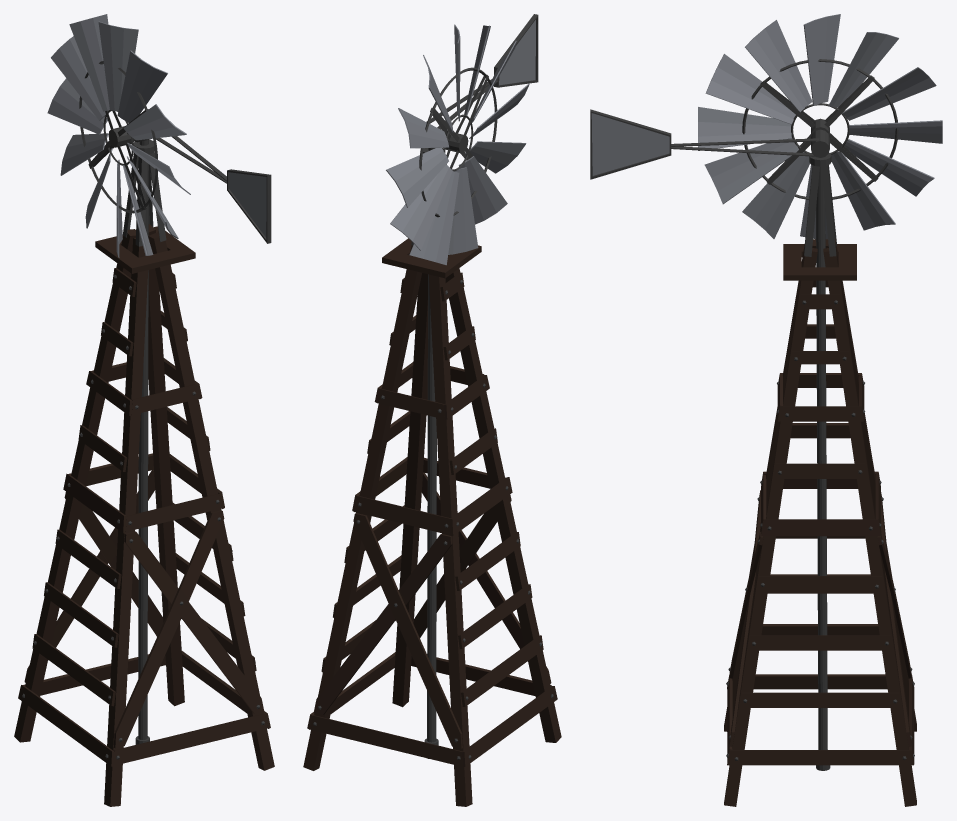
The model's file is lowpoly_windmill.glb.
3 views of the same model, side by side, from view 1: azimuth 30°, elevation 25°; view 2: azimuth 150°, elevation 25°; view 3: azimuth 270°, elevation 25° (orthographic).
Parts seen in each view (by area): view 1: SM_DariaPR_WindMill.Wood, SM_DariaPR_WindMill.Chrome, SM_DariaPR_WindMill.Metal; view 2: SM_DariaPR_WindMill.Wood, SM_DariaPR_WindMill.Chrome, SM_DariaPR_WindMill.Metal; view 3: SM_DariaPR_WindMill.Wood, SM_DariaPR_WindMill.Chrome, SM_DariaPR_WindMill.Metal.
Boxes of the visible parts, x1=… form: SM_DariaPR_WindMill.Wood: x1=14, y1=224, x2=274, y2=806; SM_DariaPR_WindMill.Chrome: x1=47, y1=14, x2=266, y2=257; SM_DariaPR_WindMill.Metal: x1=22, y1=61, x2=271, y2=759; SM_DariaPR_WindMill.Wood: x1=303, y1=238, x2=561, y2=806; SM_DariaPR_WindMill.Chrome: x1=386, y1=20, x2=535, y2=265; SM_DariaPR_WindMill.Metal: x1=313, y1=14, x2=553, y2=759; SM_DariaPR_WindMill.Wood: x1=724, y1=238, x2=916, y2=806; SM_DariaPR_WindMill.Chrome: x1=591, y1=14, x2=942, y2=239; SM_DariaPR_WindMill.Metal: x1=590, y1=59, x2=914, y2=770.
Size of the model in its own units: 2.49 by 10.6 by 4.6.
